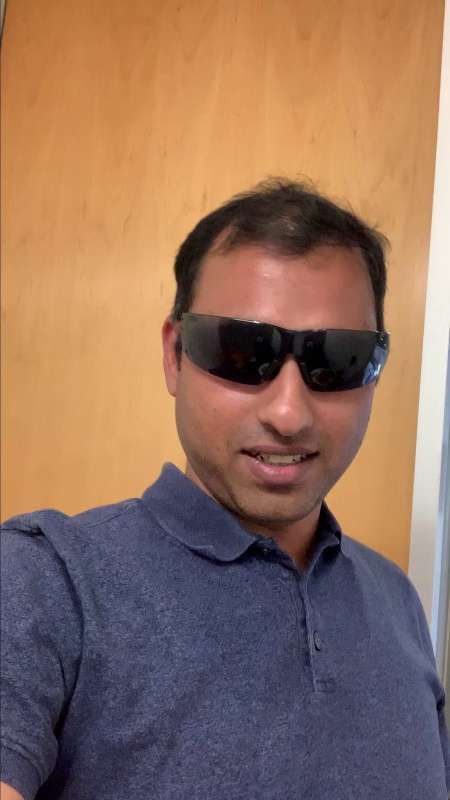glasses: (170, 301, 400, 403)
